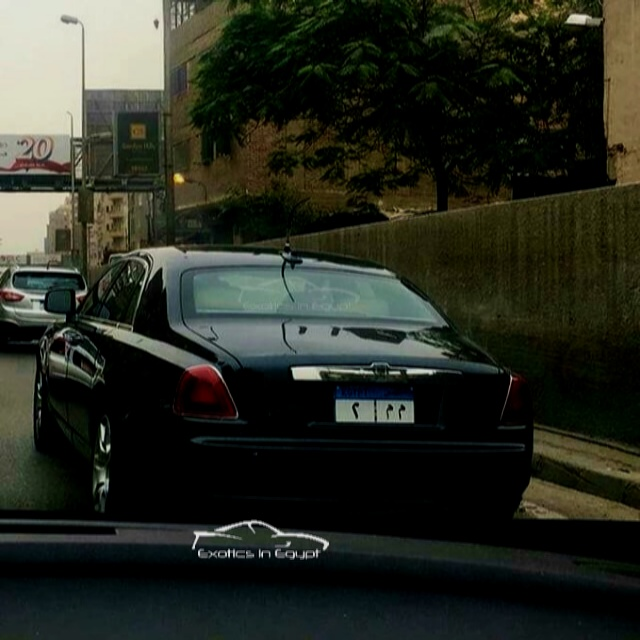License Plate: (327, 378, 422, 429)
